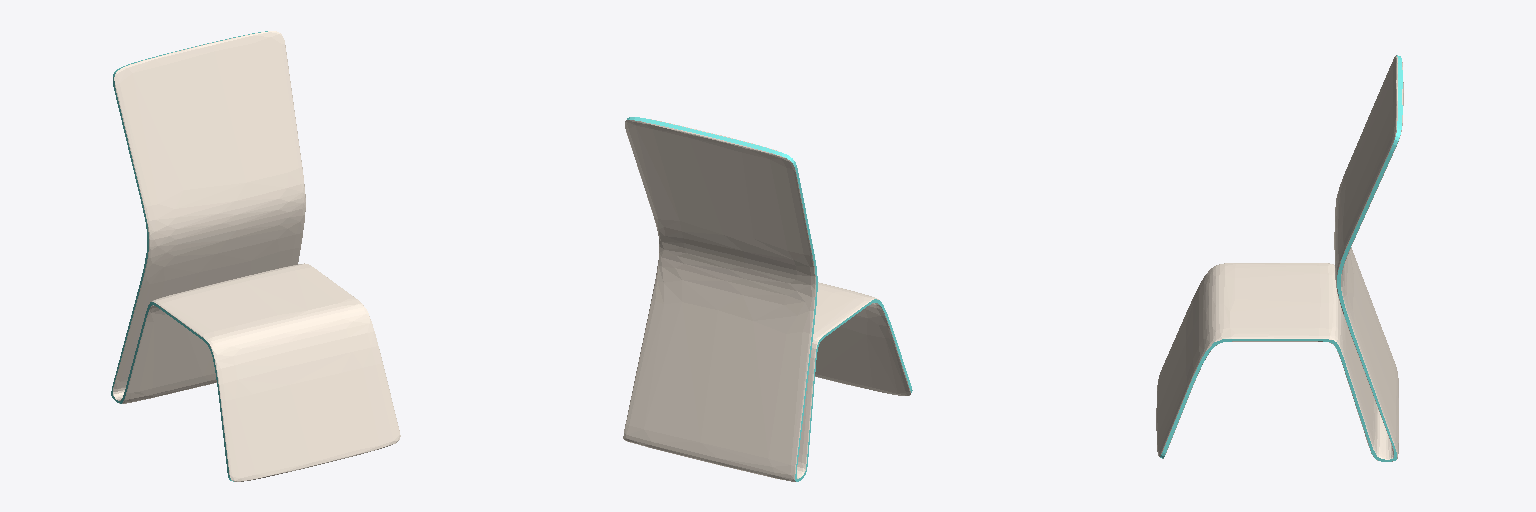
The picture shows the model from 3 angles: view 1: azimuth 30°, elevation 25°; view 2: azimuth 150°, elevation 25°; view 3: azimuth 270°, elevation 25°; orthographic projection.
Visible parts, largest first — view 1: Chair; view 2: Chair; view 3: Chair.
Part boxes in pixels (bbox=[...]): Chair: bbox=[111, 31, 400, 481]; Chair: bbox=[623, 117, 912, 481]; Chair: bbox=[1156, 55, 1403, 461].
Bounding box in the file's own units: 1.36 × 2.51 × 1.69.
Materials: 1 (1 with a texture image).